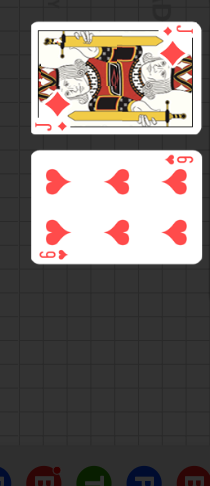6H: (38, 247, 70, 260)
JD: (161, 24, 195, 37)
